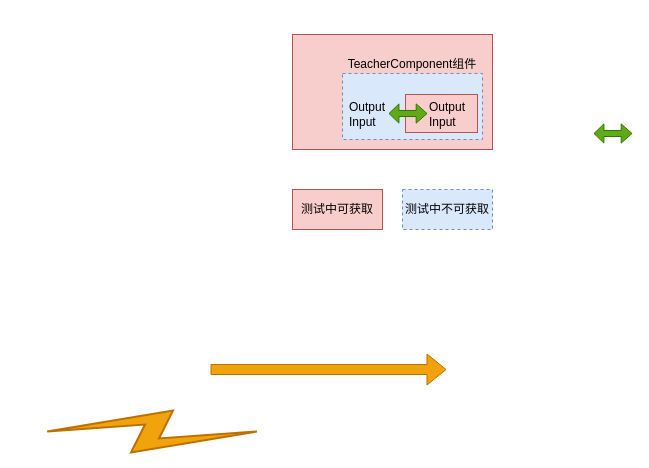
The diagram is 649 pixels wide and 468 high, and some of its shapes have lost their labels. Each missing label, with the box of its shape:
App组件: (292, 34, 492, 150)
服务: (404, 94, 478, 132)
